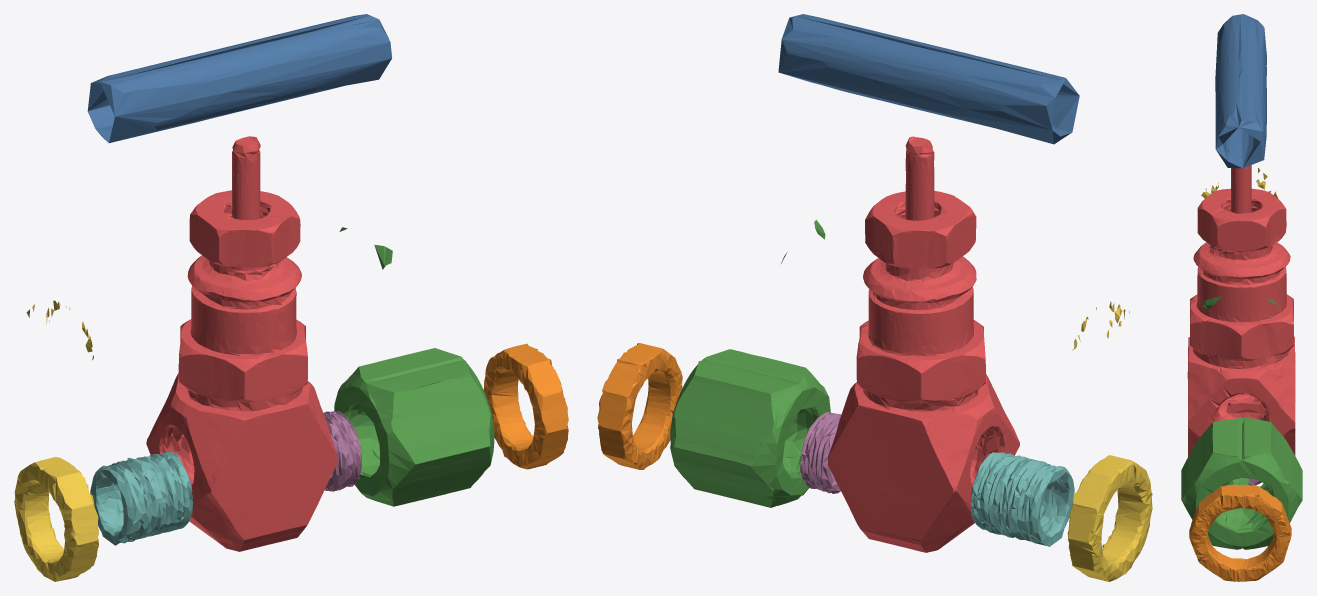
The model's file is valve_partcrafter_exploded.glb.
3 renders of one model, left to right at view 1: azimuth 30°, elevation 25°; view 2: azimuth 150°, elevation 25°; view 3: azimuth 270°, elevation 25°, orthographic. The views are drawn at different scales.
Parts seen in each view (by area): view 1: part_02, part_00, part_04, part_05, part_01, part_03, part_06; view 2: part_02, part_00, part_04, part_05, part_01, part_03, part_06; view 3: part_02, part_04, part_00, part_01, part_05.
Part boxes in pixels (<box>): part_02: <box>146,136,337,551</box>; part_00: <box>87,14,391,142</box>; part_04: <box>334,227,494,506</box>; part_05: <box>14,300,98,581</box>; part_01: <box>483,343,568,469</box>; part_03: <box>90,451,193,545</box>; part_06: <box>323,410,361,491</box>; part_02: <box>828,136,1019,552</box>; part_00: <box>778,14,1079,144</box>; part_04: <box>670,219,830,507</box>; part_05: <box>1067,301,1152,581</box>; part_01: <box>597,343,682,469</box>; part_03: <box>970,452,1074,546</box>; part_06: <box>799,412,841,493</box>; part_02: <box>1187,165,1295,456</box>; part_04: <box>1181,296,1302,549</box>; part_00: <box>1215,14,1266,168</box>; part_01: <box>1189,484,1291,581</box>; part_05: <box>1201,168,1278,198</box>.
Bounding box in the file's own units: 1.29 × 1.19 × 0.3332.
